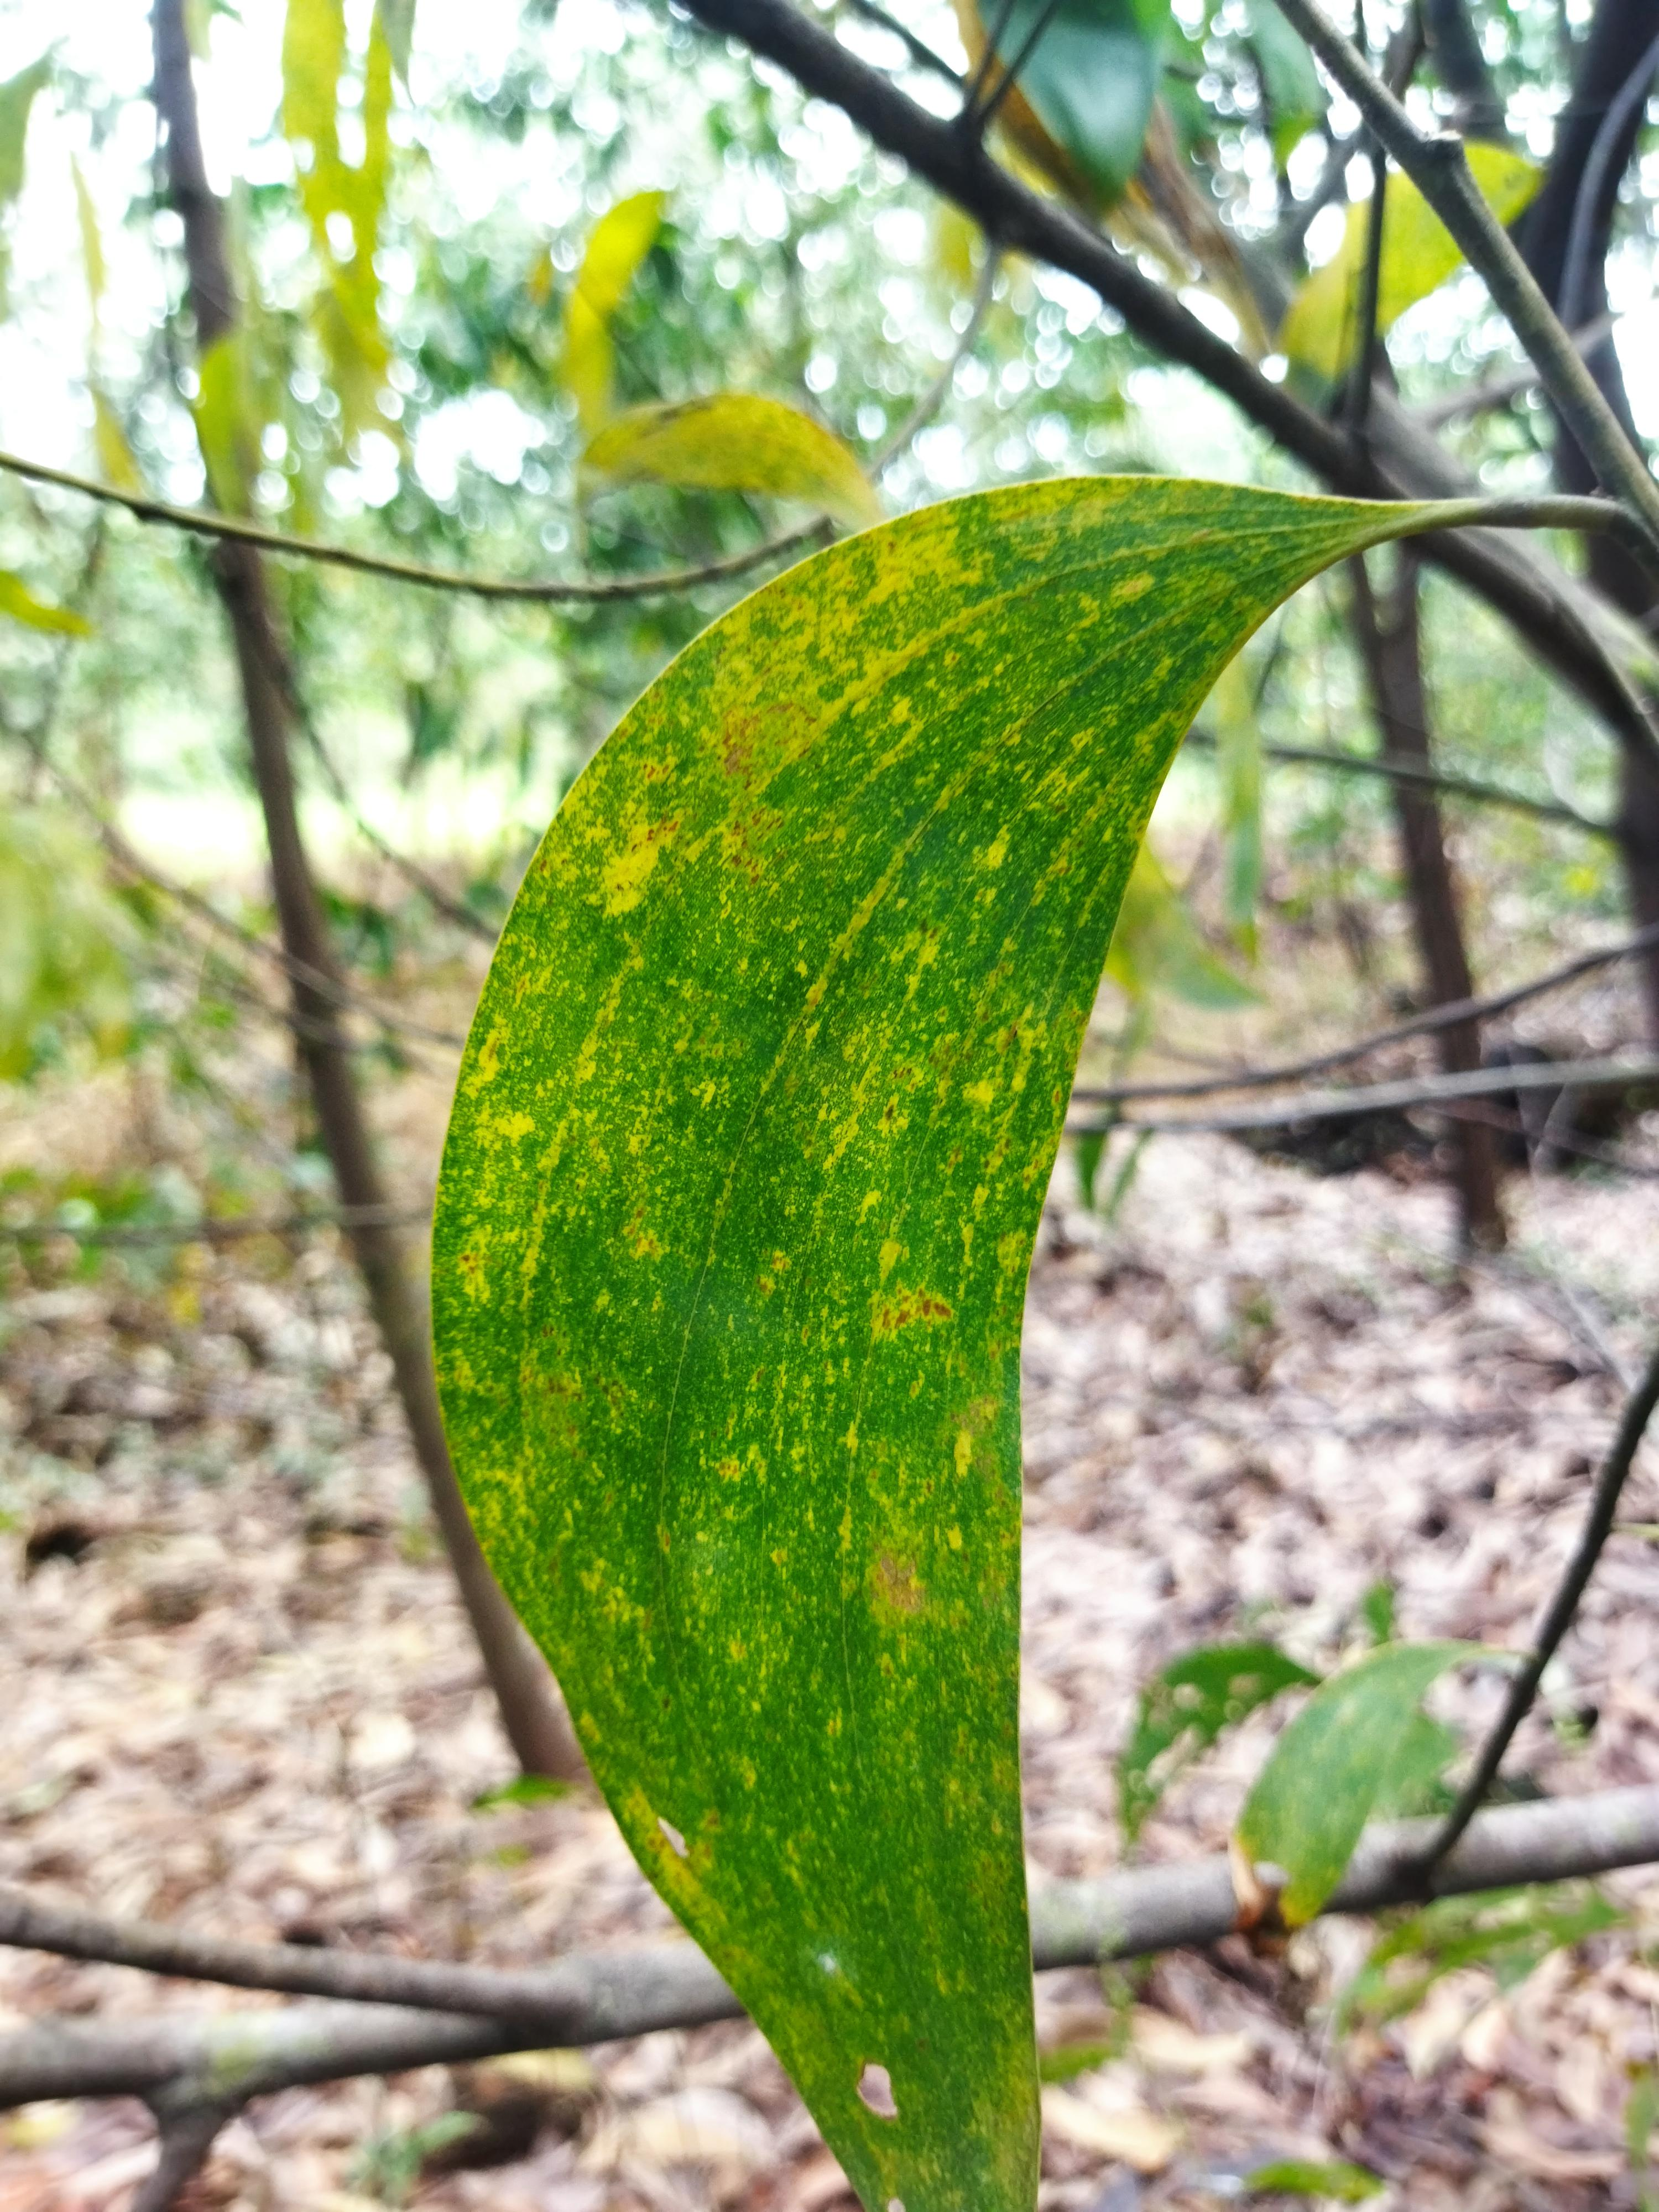Xanthomonas: (532, 693, 1084, 2203)
